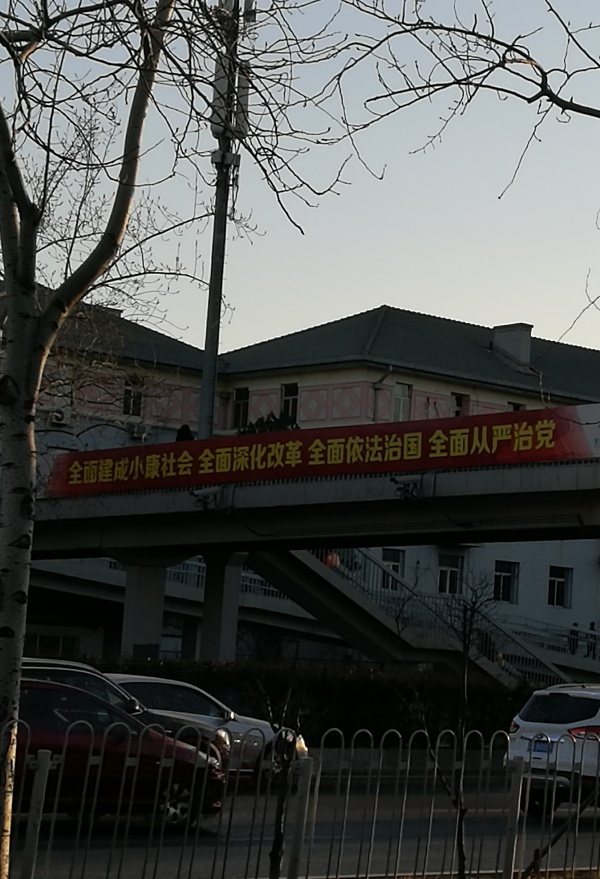text: (433, 419, 448, 461), (449, 419, 464, 461), (465, 419, 480, 461), (481, 419, 496, 461), (497, 419, 512, 461), (513, 419, 528, 461), (529, 419, 544, 461), (81, 449, 96, 489), (97, 449, 112, 489), (113, 449, 128, 489), (129, 449, 144, 489), (145, 449, 160, 489), (161, 449, 176, 489), (177, 449, 192, 489), (545, 419, 559, 461), (209, 441, 224, 476), (225, 441, 240, 476), (241, 441, 256, 476), (257, 441, 272, 476), (273, 441, 288, 476), (289, 441, 304, 476), (321, 432, 336, 467), (337, 432, 352, 467), (353, 432, 368, 467), (369, 432, 384, 467), (385, 432, 400, 467), (401, 432, 416, 467), (67, 449, 80, 489), (306, 432, 320, 467), (197, 441, 208, 476), (417, 432, 425, 467), (426, 419, 432, 461), (193, 449, 197, 489), (305, 441, 306, 476)
